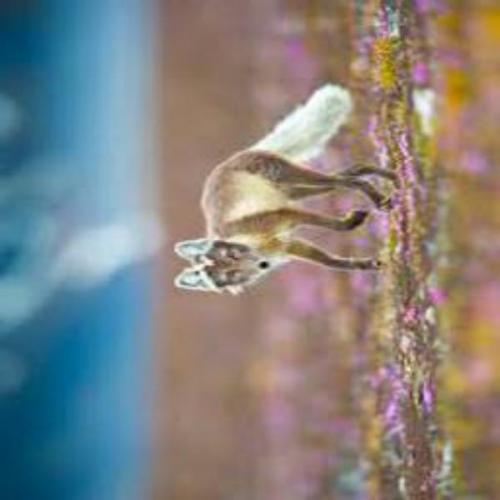arctic_fox-endangered: (174, 85, 401, 296)
